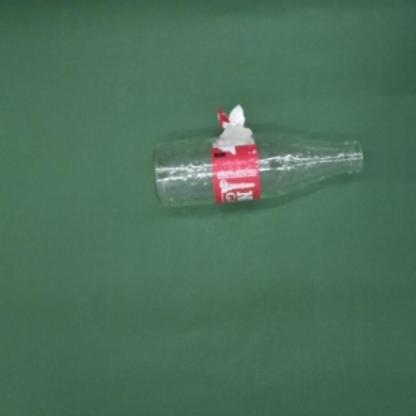Can: (154, 132, 363, 208)
